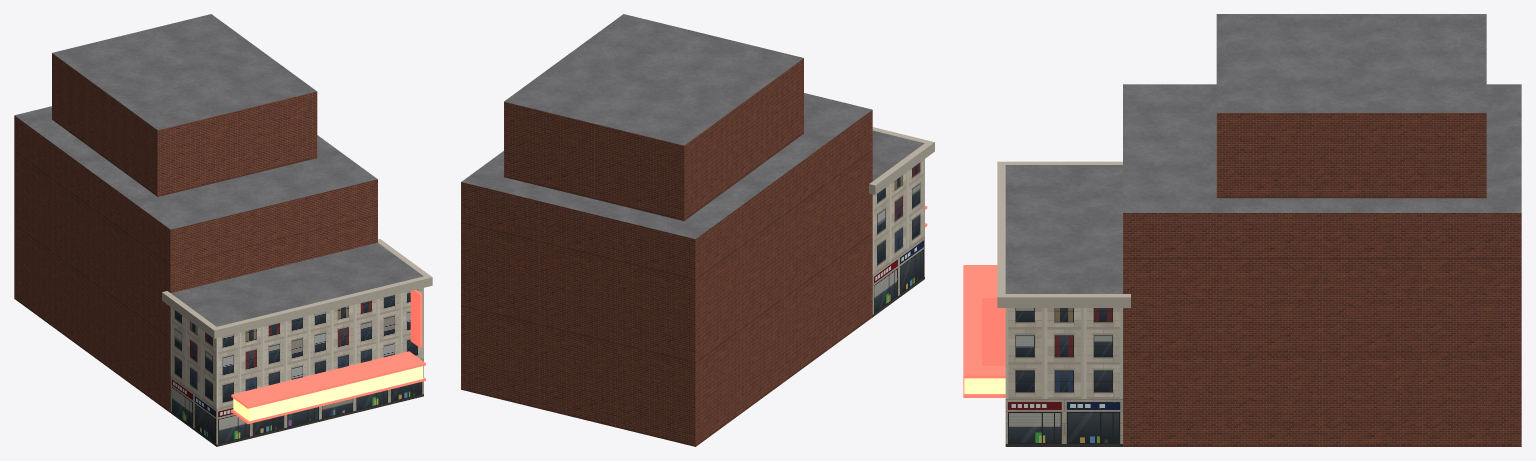
File: 067_cinema.glb
3 renders of one model, left to right at view 1: azimuth 30°, elevation 25°; view 2: azimuth 150°, elevation 25°; view 3: azimuth 270°, elevation 25°, orthographic. The views are drawn at different scales.
Parts seen in each view (by area): view 1: 067_cinema; view 2: 067_cinema; view 3: 067_cinema.
Part boxes in pixels (left/top/right/bottom): 067_cinema: left=14, top=14, right=432, bottom=446; 067_cinema: left=461, top=14, right=934, bottom=446; 067_cinema: left=963, top=14, right=1521, bottom=446.
Size of the model in its own units: 27.4 by 30 by 47.6.
Materials: 7 (4 with a texture image).
